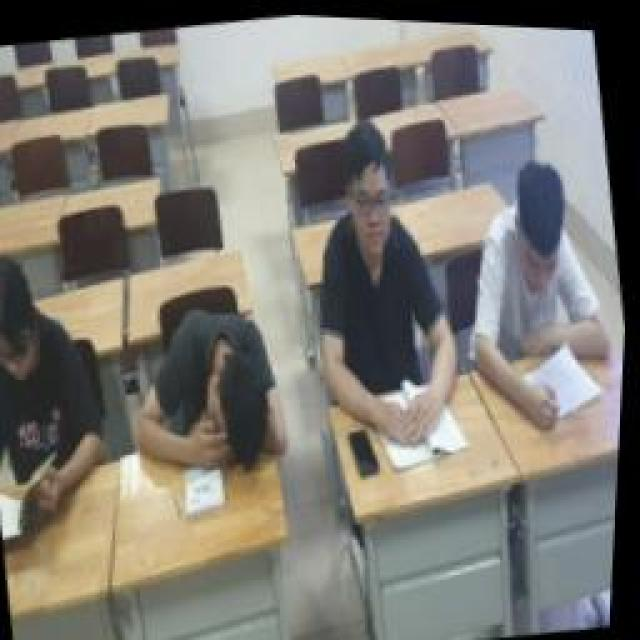sleep: (115, 290, 300, 485)
study: (282, 105, 490, 475), (453, 142, 635, 432), (0, 240, 125, 545)
